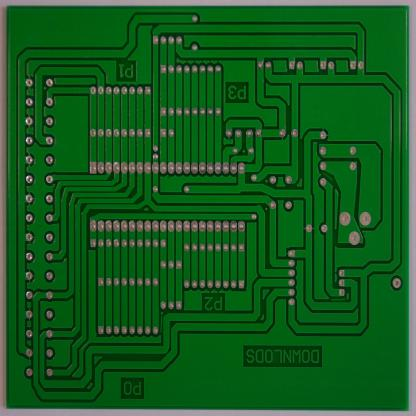spurious_copper: (158, 314, 165, 333), (322, 171, 334, 181), (330, 297, 346, 302)
